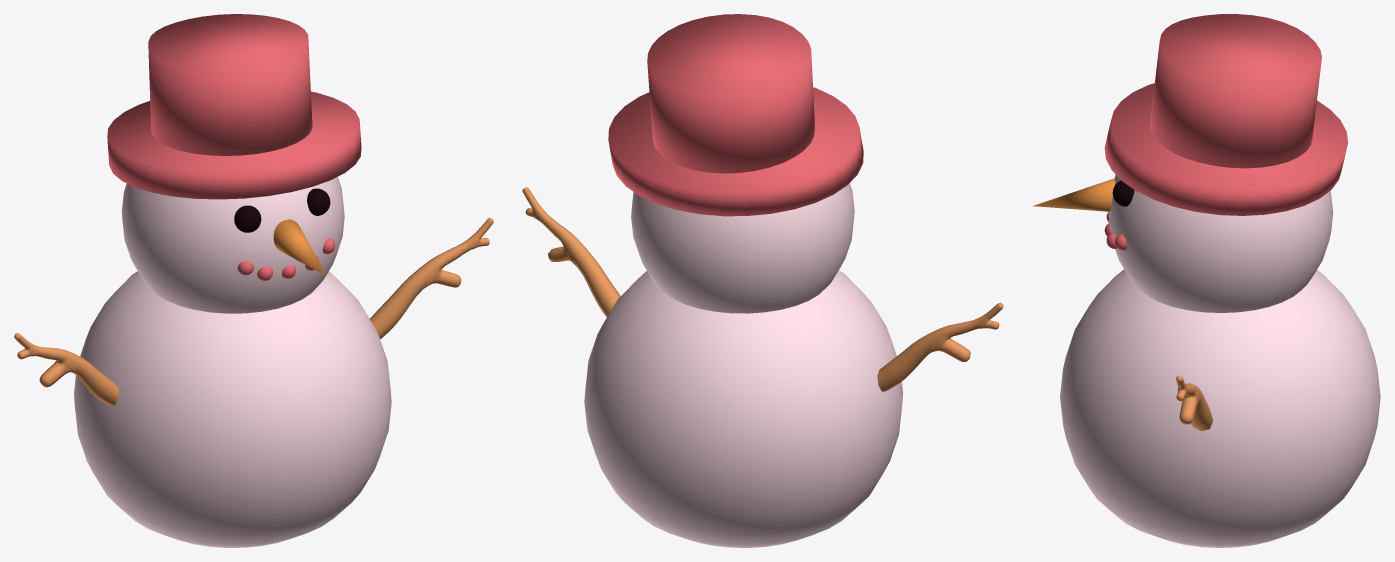
The model's file is SnowmanHappyTwo.fbx.
3 views of the same model, side by side, from view 1: azimuth 30°, elevation 25°; view 2: azimuth 150°, elevation 25°; view 3: azimuth 270°, elevation 25° (orthographic).
Visible parts, largest first — view 1: Sphere, Hat Top, Sphere.001, Hat Rim, Vert.002, Cone, Left eye; view 2: Sphere, Hat Top, Sphere.001, Hat Rim, Vert.002; view 3: Sphere, Hat Top, Sphere.001, Hat Rim, Cone, Vert.002.
Part boxes in pixels (box(x1,y1,x2,y2)): Sphere: box(74, 271, 391, 547); Hat Top: box(148, 14, 312, 155); Sphere.001: box(121, 176, 344, 313); Hat Rim: box(107, 91, 361, 199); Vert.002: box(14, 218, 493, 405); Cone: box(273, 219, 326, 275); Left eye: box(234, 205, 261, 232); Sphere: box(584, 270, 902, 547); Hat Top: box(647, 14, 814, 173); Sphere.001: box(631, 183, 854, 313); Hat Rim: box(608, 87, 863, 216); Vert.002: box(522, 187, 1003, 391); Sphere: box(1060, 269, 1380, 547); Hat Top: box(1150, 14, 1321, 168); Sphere.001: box(1108, 175, 1333, 312); Hat Rim: box(1104, 83, 1348, 215); Cone: box(1033, 178, 1115, 211); Vert.002: box(1176, 375, 1213, 431).
Size of the model in its own units: 347 by 333 by 217.
